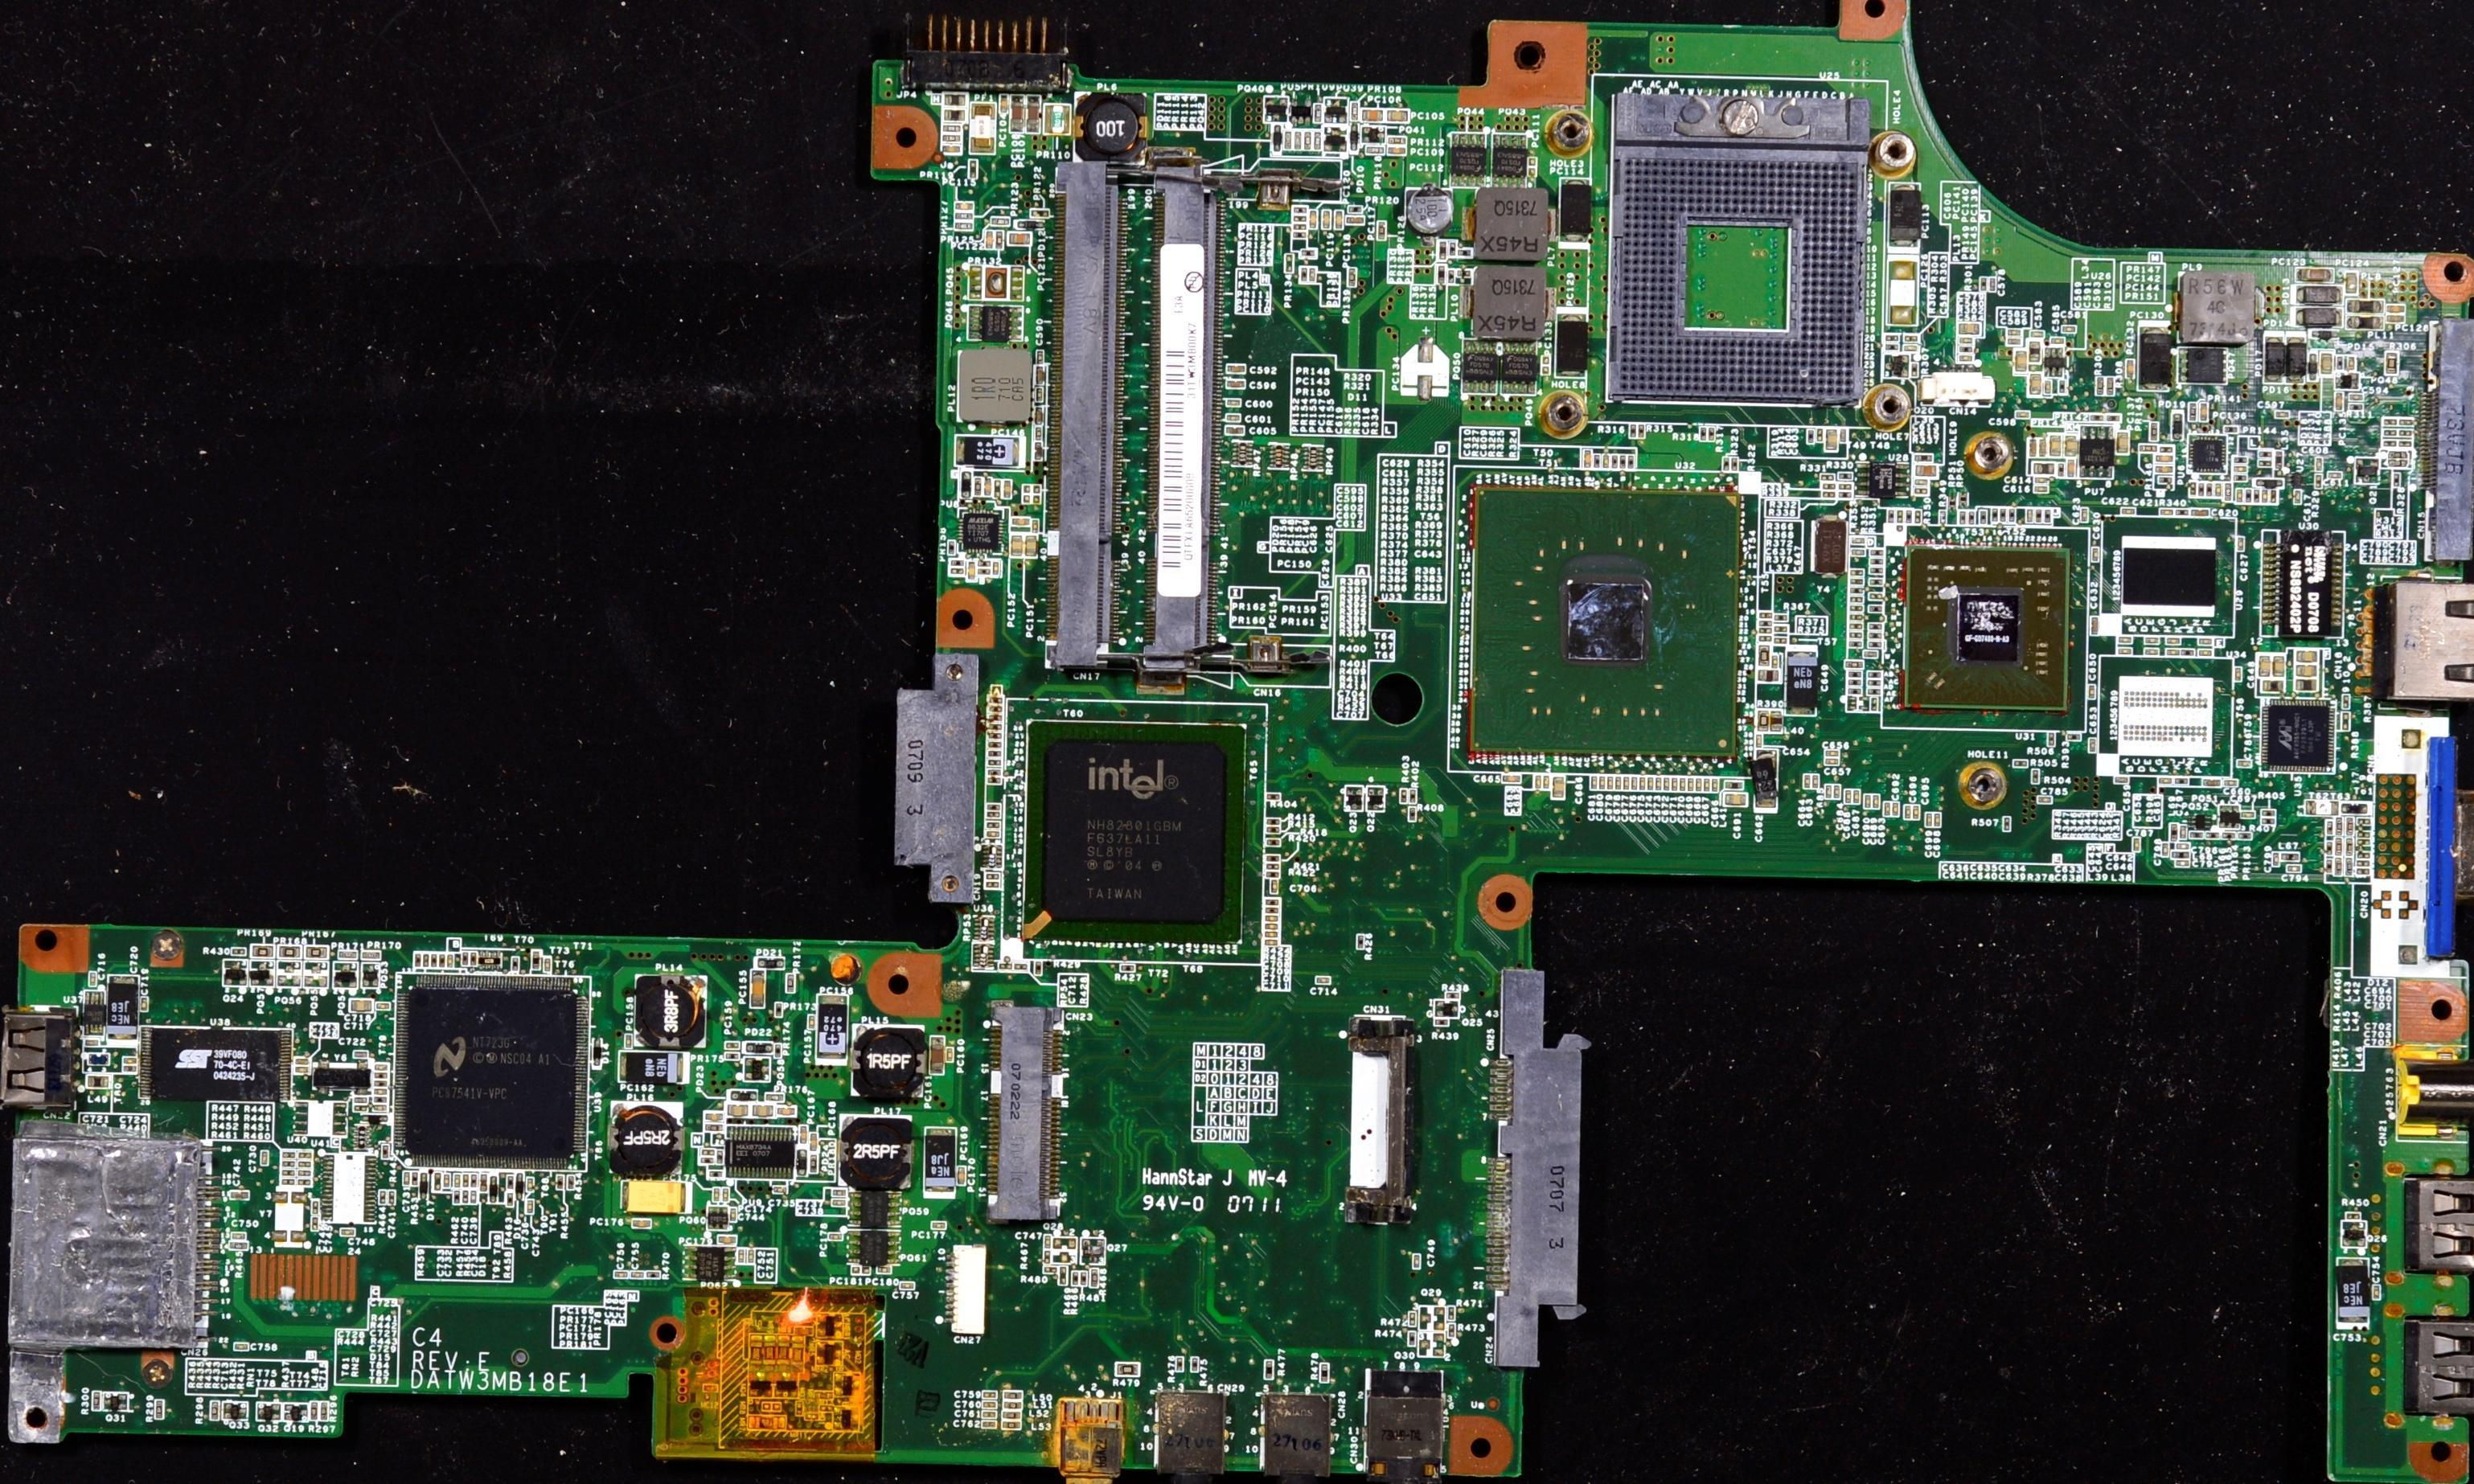Capacitor: (348, 997, 377, 1017), (1385, 108, 1410, 124), (725, 1101, 749, 1117), (752, 1103, 773, 1117), (2386, 351, 2398, 377), (1008, 233, 1034, 245), (1012, 532, 1023, 560), (2015, 348, 2025, 374), (2321, 351, 2333, 375), (1224, 365, 1249, 377), (2152, 461, 2180, 471), (1361, 109, 1381, 121), (1826, 429, 1838, 451), (228, 1190, 250, 1200), (940, 143, 963, 154), (1335, 209, 1345, 232), (1026, 533, 1037, 557), (1011, 516, 1031, 527), (1959, 323, 1980, 334), (2029, 375, 2040, 397), (1226, 425, 1248, 437), (2259, 656, 2269, 676), (1322, 207, 1331, 232), (806, 1015, 816, 1033), (632, 1217, 651, 1228), (2385, 304, 2404, 315), (2048, 435, 2059, 453), (1554, 777, 1564, 797), (1726, 793, 1746, 805), (1000, 93, 1008, 116), (2126, 355, 2136, 379), (1226, 380, 1249, 389), (718, 1233, 739, 1243), (1225, 398, 1242, 408), (623, 1031, 632, 1050), (954, 202, 974, 211), (984, 229, 992, 253), (2154, 455, 2177, 463), (705, 1112, 723, 1120), (1347, 215, 1364, 223), (982, 479, 991, 496), (1503, 775, 1520, 784), (228, 1243, 249, 1249), (2066, 437, 2073, 457), (721, 1188, 729, 1205), (1225, 413, 1241, 423), (2315, 457, 2324, 472), (481, 1174, 488, 1191), (338, 1228, 356, 1236), (1413, 1254, 1420, 1269), (2031, 331, 2044, 338), (1840, 428, 1848, 441), (2068, 458, 2074, 475), (2191, 509, 2209, 516), (2092, 617, 2099, 634), (2234, 667, 2242, 682), (2038, 796, 2051, 803), (2287, 865, 2302, 872), (311, 1199, 318, 1216), (230, 1232, 245, 1239), (1044, 1236, 1052, 1250), (982, 1410, 999, 1416), (2200, 401, 2206, 422), (2029, 437, 2035, 454), (2385, 315, 2415, 318), (1310, 210, 1315, 230), (1004, 480, 1010, 500), (2162, 843, 2168, 856), (2272, 853, 2279, 867), (1271, 879, 1278, 893), (1315, 977, 1329, 984), (983, 1400, 997, 1408), (1990, 278, 1996, 292), (2008, 338, 2021, 346), (2121, 507, 2136, 514), (1825, 748, 1840, 756), (2224, 779, 2238, 786), (1680, 778, 1685, 791), (1664, 778, 1669, 791), (968, 561, 974, 579), (1913, 806, 1919, 818), (2177, 843, 2189, 850), (1266, 931, 1278, 937), (1266, 940, 1278, 946), (983, 1420, 995, 1428), (2051, 338, 2064, 344), (2035, 485, 2048, 491), (2295, 490, 2302, 503), (2160, 510, 2172, 515), (2082, 508, 2088, 521), (2089, 686, 2096, 699), (1934, 814, 1941, 828), (949, 1047, 954, 1061), (714, 1188, 719, 1204), (983, 1392, 998, 1397), (1958, 337, 1974, 343), (1712, 778, 1717, 793), (1893, 803, 1899, 815), (1905, 805, 1910, 818), (446, 953, 453, 967), (313, 1215, 318, 1229), (901, 1283, 915, 1288), (1959, 355, 1972, 361), (2349, 393, 2363, 400), (2328, 473, 2342, 478), (2160, 777, 2172, 784), (1804, 774, 1810, 788), (1687, 777, 1693, 792), (1696, 778, 1702, 792), (1704, 778, 1709, 792), (1826, 785, 1832, 797), (1854, 790, 1860, 804), (1873, 796, 1879, 809), (1885, 803, 1890, 817), (2242, 812, 2254, 818), (1927, 814, 1933, 826), (2176, 861, 2188, 866), (1265, 916, 1278, 922), (1266, 924, 1278, 929), (2373, 1285, 2379, 1299), (2062, 326, 2075, 331), (2008, 330, 2020, 335), (2275, 411, 2289, 417), (2034, 477, 2047, 483), (1756, 735, 1762, 748), (2090, 739, 2096, 751), (1592, 777, 1598, 789), (1615, 777, 1621, 790), (1639, 777, 1646, 789), (1599, 777, 1605, 790), (1607, 777, 1614, 790), (1655, 777, 1661, 789), (1648, 778, 1654, 789), (1672, 778, 1677, 790), (1834, 786, 1840, 798), (1865, 795, 1871, 808), (406, 1173, 410, 1191), (2134, 839, 2140, 851), (463, 1174, 467, 1188), (455, 1175, 460, 1191), (1536, 777, 1541, 789), (1543, 777, 1548, 789), (1826, 759, 1839, 764), (1846, 790, 1851, 803), (1813, 775, 1817, 788), (1632, 778, 1637, 789), (1624, 777, 1628, 789)
Connector: (1044, 157, 1116, 673), (1153, 166, 1216, 667), (984, 1003, 1051, 1224), (1350, 1011, 1407, 1215)
IC: (1024, 719, 1241, 945), (396, 983, 588, 1166), (140, 1021, 299, 1108), (2250, 514, 2352, 647), (855, 1019, 938, 1112), (2259, 695, 2336, 770), (1953, 583, 2024, 663), (727, 1120, 796, 1179), (322, 1151, 377, 1224), (675, 1244, 749, 1279), (1450, 130, 1487, 188), (964, 307, 1020, 345), (1464, 339, 1501, 396), (1502, 339, 1535, 398), (1493, 133, 1527, 187), (104, 981, 136, 1037), (959, 514, 1005, 553), (2186, 437, 2226, 473), (2082, 424, 2108, 475), (855, 1192, 896, 1224), (859, 1226, 888, 1268), (380, 1187, 387, 1204), (389, 1189, 395, 1207)
Resistor: (941, 106, 966, 123), (1114, 1363, 1139, 1379), (942, 92, 967, 105), (941, 133, 962, 142), (954, 210, 974, 222), (991, 216, 1011, 227), (531, 949, 539, 970), (373, 1072, 392, 1082), (942, 124, 962, 132), (1091, 1268, 1098, 1287), (1264, 855, 1281, 863), (433, 1173, 441, 1191), (1319, 1364, 1329, 1381), (955, 222, 974, 232), (469, 951, 478, 964), (281, 1166, 296, 1176), (996, 230, 1004, 250), (1266, 826, 1281, 834), (1059, 1268, 1067, 1285), (2013, 759, 2029, 768), (1265, 793, 1282, 801), (438, 951, 445, 970), (280, 1176, 298, 1183), (1409, 1308, 1417, 1326), (1266, 1360, 1273, 1379), (975, 477, 982, 497), (1409, 806, 1417, 823), (430, 951, 437, 968), (511, 956, 519, 970), (544, 957, 552, 974), (353, 1104, 367, 1113), (444, 1172, 451, 1189), (1447, 1305, 1454, 1323), (1409, 1331, 1416, 1349), (1175, 1357, 1182, 1374), (1839, 472, 1853, 480), (297, 1170, 319, 1174), (1265, 838, 1281, 847), (423, 951, 429, 966), (414, 951, 421, 967), (372, 1061, 388, 1068), (1043, 1266, 1059, 1273), (1447, 1324, 1454, 1338), (1959, 346, 1973, 353), (949, 560, 964, 567), (948, 568, 969, 575), (299, 1151, 318, 1157), (2004, 818, 2011, 831), (454, 1191, 462, 1204), (1191, 1359, 1199, 1373), (1980, 278, 1986, 291), (2349, 404, 2363, 411), (2066, 734, 2079, 740), (1399, 789, 1406, 802), (1263, 872, 1282, 878), (281, 1151, 299, 1158), (470, 1171, 476, 1188), (949, 540, 954, 558), (2033, 769, 2039, 785), (1266, 908, 1278, 915), (1044, 1250, 1051, 1264), (1807, 430, 1814, 442), (1723, 457, 1729, 470), (1821, 473, 1834, 481), (1840, 483, 1852, 490), (1823, 491, 1835, 498), (2176, 510, 2188, 516), (1775, 615, 1788, 622), (1759, 621, 1772, 627), (1774, 625, 1787, 632), (1760, 627, 1773, 634), (2261, 810, 2275, 817), (1265, 863, 1281, 869), (462, 952, 468, 968), (371, 1104, 388, 1110), (374, 1079, 388, 1084), (372, 1088, 388, 1094), (1081, 1273, 1087, 1286), (1309, 268, 1315, 282), (1638, 424, 1644, 437), (1631, 424, 1637, 437), (1700, 427, 1705, 441), (1816, 428, 1823, 442), (1731, 458, 1738, 471), (1822, 482, 1836, 488), (1759, 635, 1771, 641), (354, 1096, 372, 1100), (979, 568, 998, 573), (2262, 818, 2275, 823), (1266, 899, 1278, 905), (1073, 1272, 1078, 1285), (1709, 428, 1715, 441), (1759, 613, 1772, 619), (1409, 789, 1416, 802), (1267, 818, 1278, 824), (374, 1095, 386, 1101), (301, 1159, 316, 1162), (297, 1164, 312, 1167), (301, 1179, 315, 1182), (281, 1160, 301, 1162), (979, 562, 997, 563)
